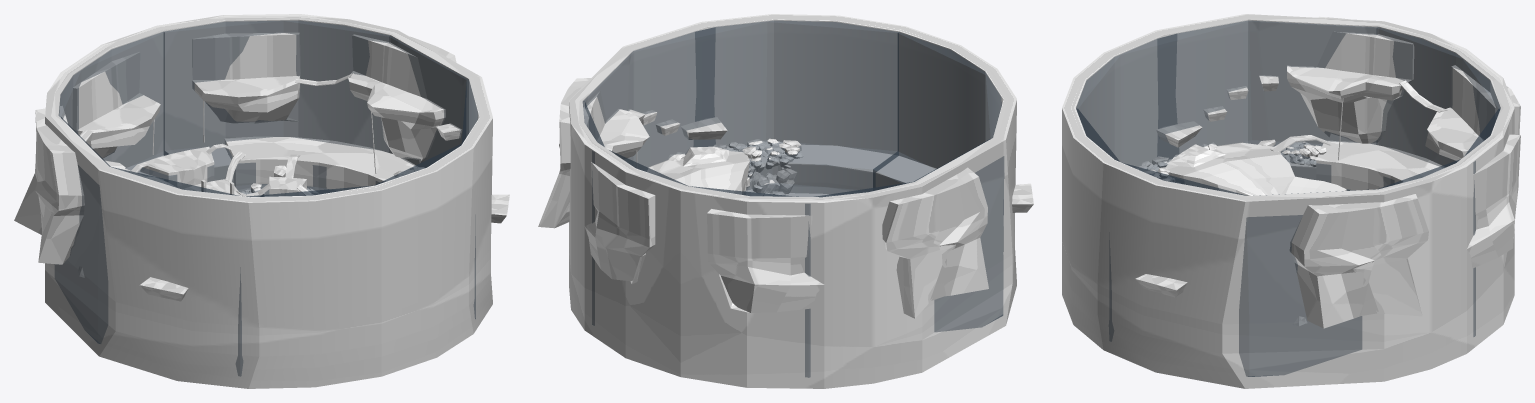
The model's file is LevelDesign_new_03.fbx.
3 renders of one model, left to right at view 1: azimuth 30°, elevation 25°; view 2: azimuth 150°, elevation 25°; view 3: azimuth 270°, elevation 25°, orthographic.
Visible parts, largest first — view 1: polySurface742; view 2: polySurface742; view 3: polySurface742.
Part boxes in pixels (bbox=[...]): polySurface742: bbox=[14, 14, 509, 388]; polySurface742: bbox=[538, 14, 1033, 388]; polySurface742: bbox=[1062, 14, 1520, 388].
Bounding box in the file's own units: 87.05 × 37.58 × 80.62.
